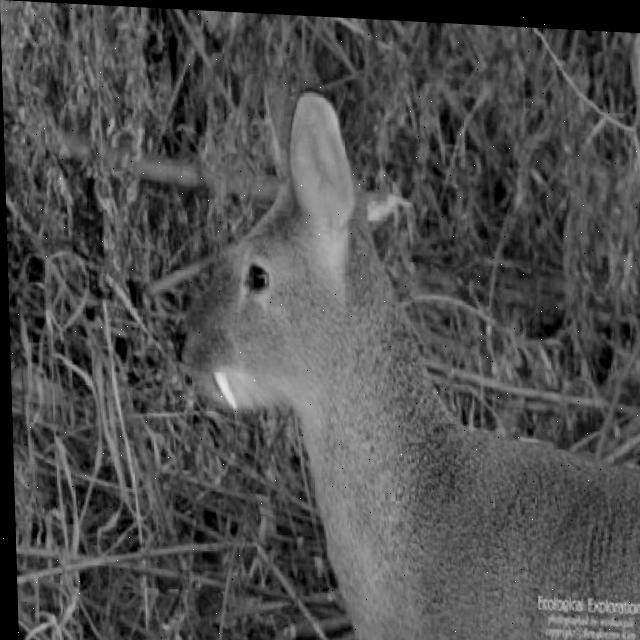Deer: (167, 75, 640, 599)
